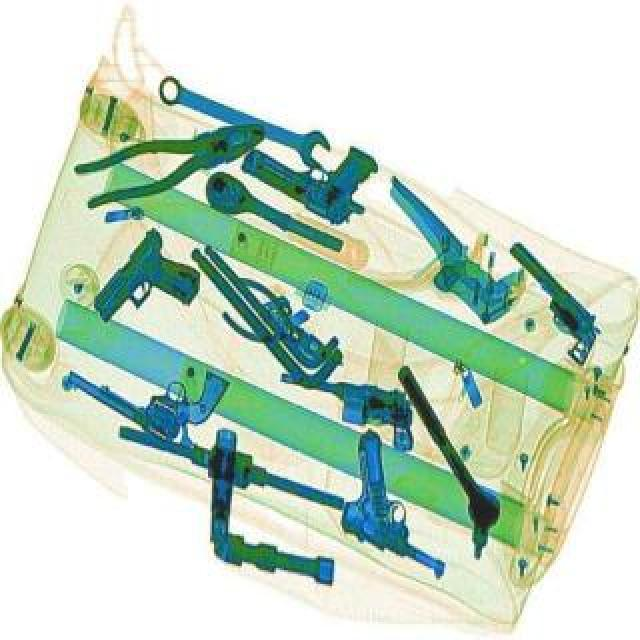gun: (310, 430, 492, 584), (58, 312, 234, 458), (234, 110, 390, 236), (80, 226, 218, 356), (480, 242, 618, 370), (268, 372, 426, 456)
scissors: (150, 68, 336, 176)
wrench: (70, 112, 276, 218), (206, 272, 362, 392)
